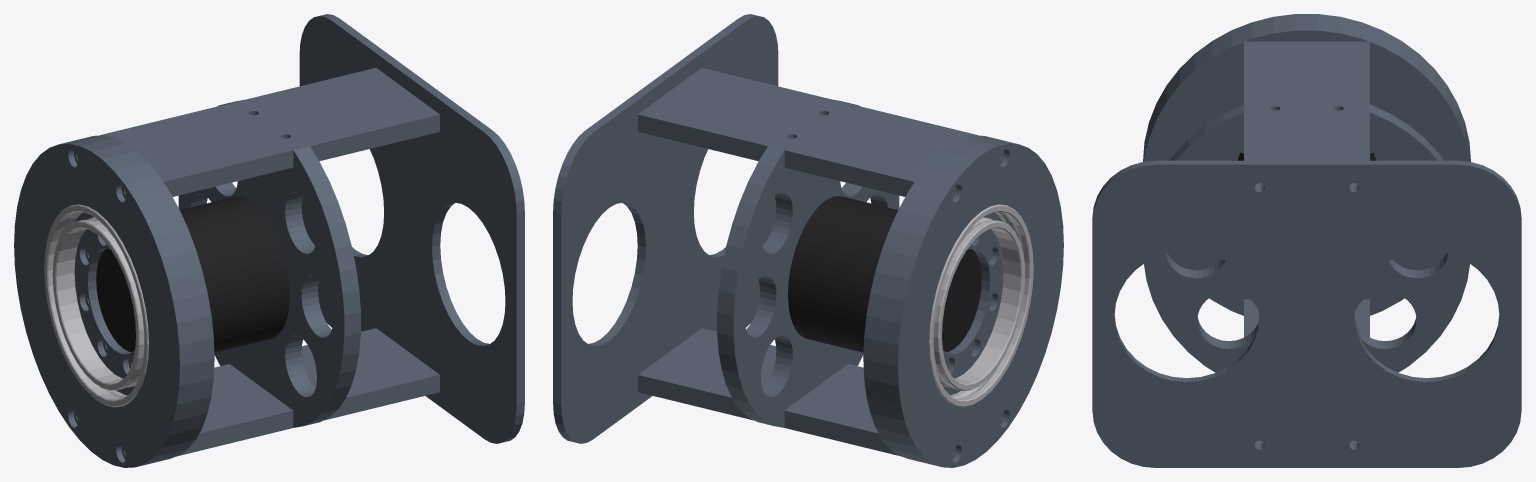
Rendered from head.dae.
The picture shows the model from 3 angles, left to right: view 1: azimuth 30°, elevation 25°; view 2: azimuth 150°, elevation 25°; view 3: azimuth 270°, elevation 25°; orthographic projection.
Parts seen in each view (by area): view 1: head-printed, head-motor, head-steel; view 2: head-printed, head-motor, head-steel; view 3: head-printed.
Part boxes in pixels (left/top/right/bottom): head-printed: left=14, top=14, right=524, bottom=467; head-motor: left=96, top=196, right=289, bottom=352; head-steel: left=44, top=204, right=148, bottom=407; head-printed: left=553, top=14, right=1063, bottom=467; head-motor: left=788, top=196, right=981, bottom=352; head-steel: left=929, top=204, right=1033, bottom=407; head-printed: left=1092, top=14, right=1521, bottom=467.
Bounding box in the file's own units: 0.116 × 0.136 × 0.106.
